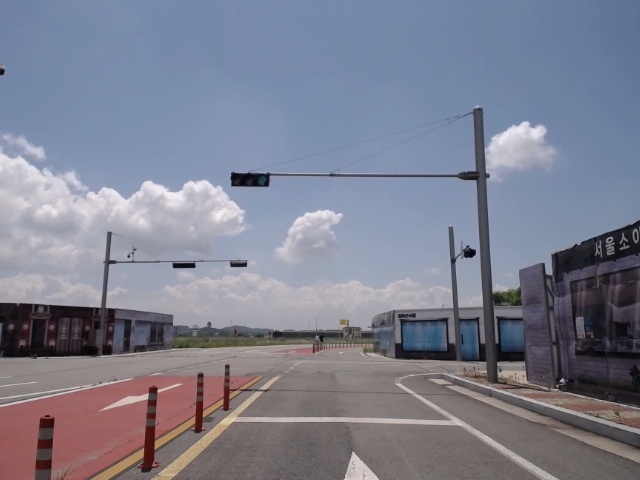green_3: (231, 173, 269, 187)
